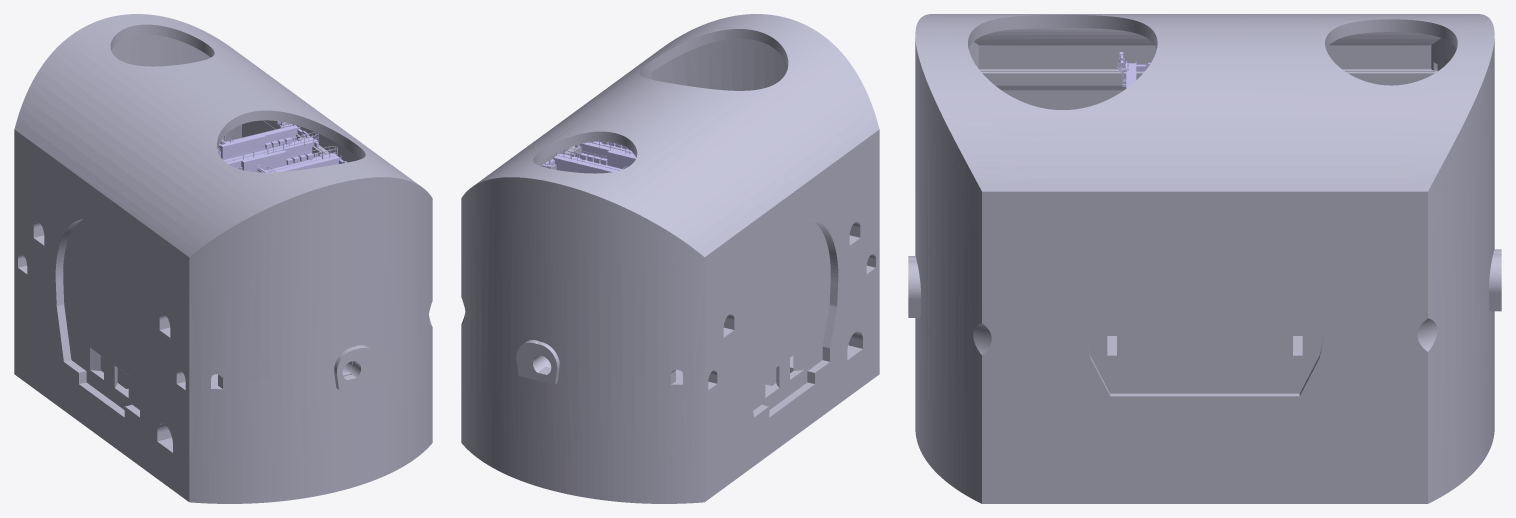
3 renders of one model, left to right at view 1: azimuth 30°, elevation 25°; view 2: azimuth 150°, elevation 25°; view 3: azimuth 270°, elevation 25°, orthographic. The views are drawn at different scales.
Parts seen in each view (by area): view 1: null; view 2: null; view 3: null.
Boxes of the visible parts, <box> form: null: <box>14,14,432,503</box>; null: <box>461,14,879,503</box>; null: <box>908,14,1501,503</box>.
Size of the model in its own units: 34 by 41.2 by 56.3.
